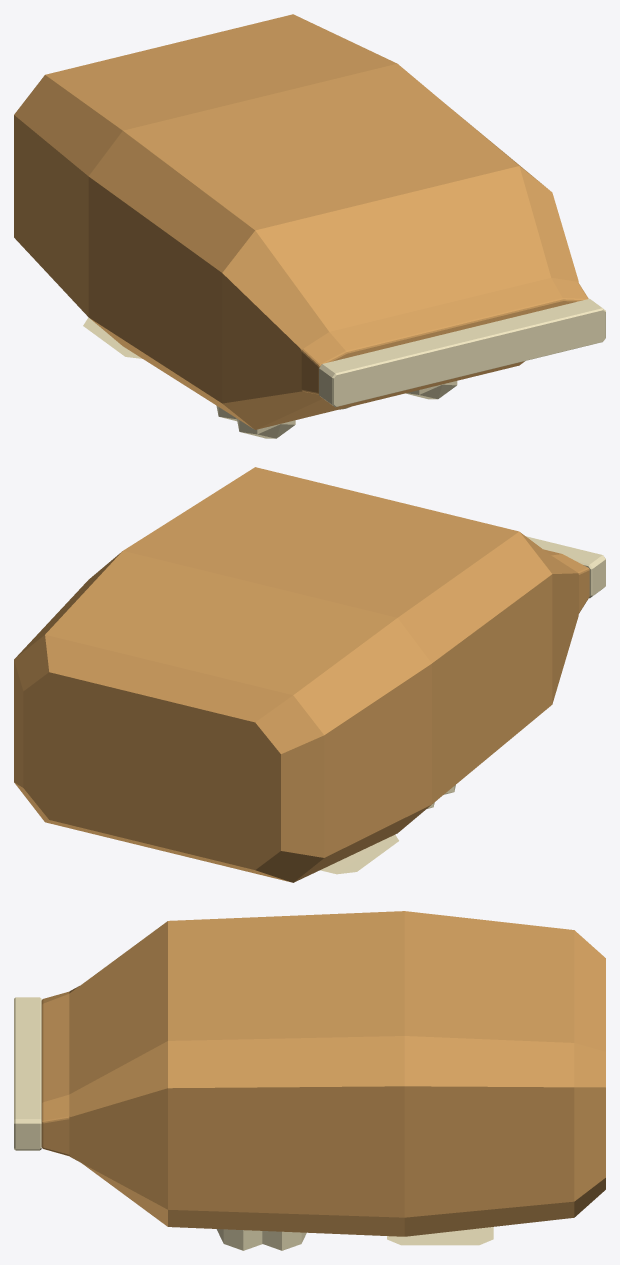
Rendered from pet_treats.glb.
3 views of the same model, one above another, from view 1: azimuth 30°, elevation 25°; view 2: azimuth 150°, elevation 25°; view 3: azimuth 270°, elevation 25° (orthographic). The views are drawn at different scales.
Visible parts, largest first — view 1: pet_treats; view 2: pet_treats; view 3: pet_treats.
Part boxes in pixels (x1=…): pet_treats: x1=14, y1=14, x2=605, y2=438; pet_treats: x1=14, y1=467, x2=605, y2=882; pet_treats: x1=14, y1=911, x2=605, y2=1250.
Bounding box in the file's own units: 0.0936 × 0.0673 × 0.15.
